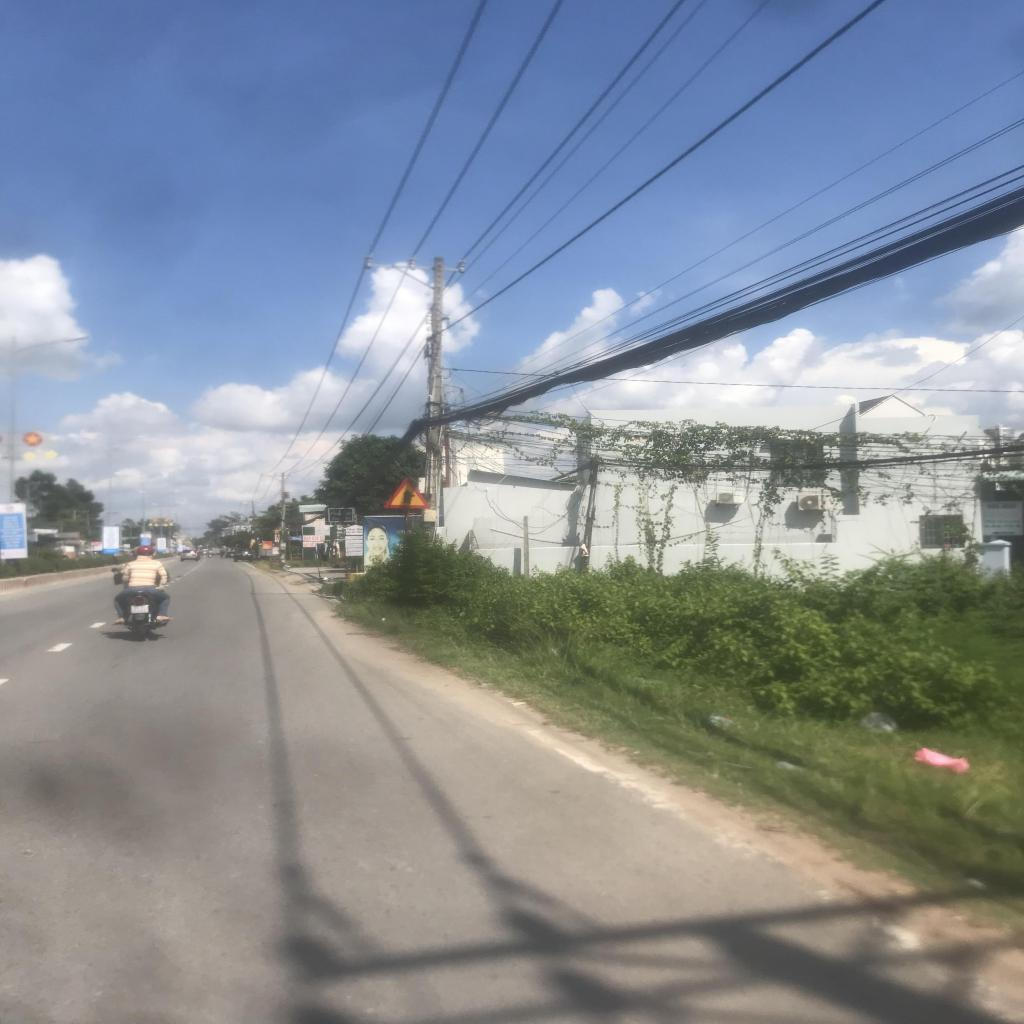giao_nhau_voi_duong_khong_uu_tien: (381, 475, 431, 509)
